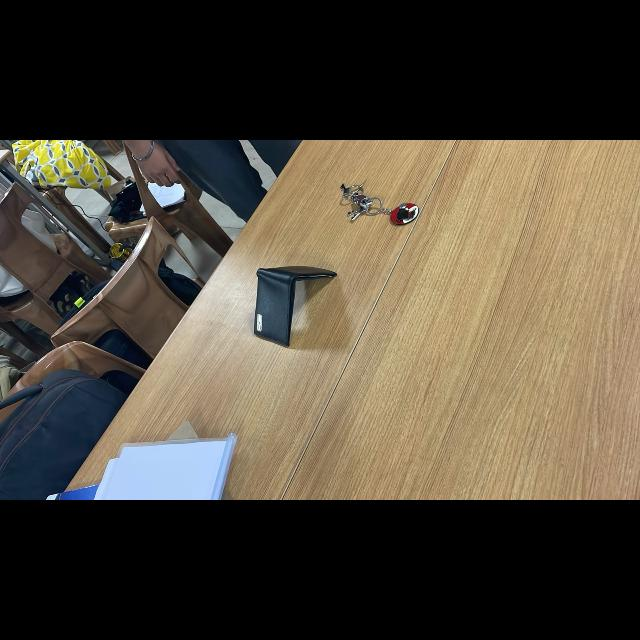keys: (328, 172, 436, 238)
wallet: (238, 249, 349, 347)
